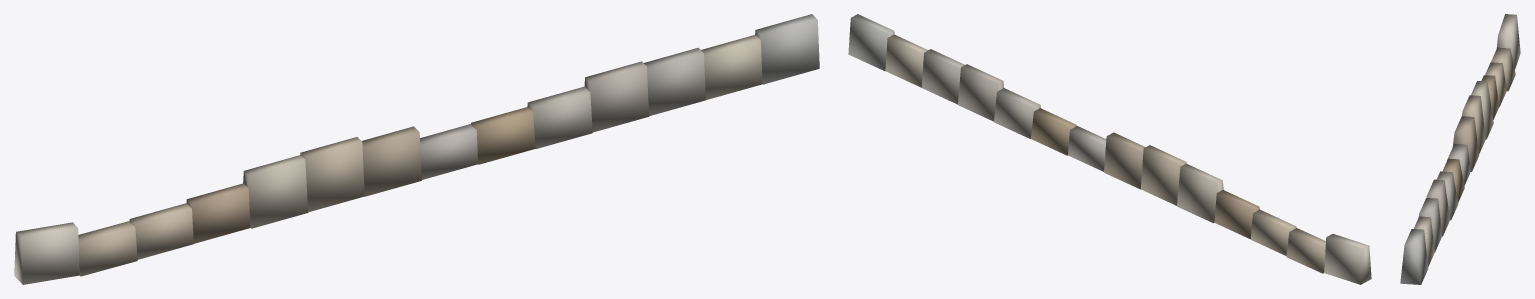
The model's file is farm_30_23_collision.glb.
The picture shows the model from 3 angles, left to right: view 1: azimuth 30°, elevation 25°; view 2: azimuth 150°, elevation 25°; view 3: azimuth 270°, elevation 25°; orthographic projection. The views are drawn at different scales.
Parts seen in each view (by area): view 1: geometry_0; view 2: geometry_0; view 3: geometry_0.
Boxes of the visible parts, <box> form: geometry_0: <box>14,14,819,284</box>; geometry_0: <box>848,14,1371,284</box>; geometry_0: <box>1400,14,1520,284</box>.
Bounding box in the file's own units: 21.94 × 3.63 × 3.71.
